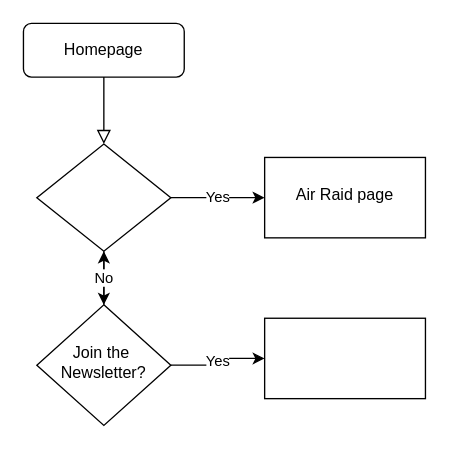
Some shapes in this 449 by 449 pixel diagram are drawn without their labels. Each missing label, with the centre of its shape:
Learn the Air Raid?: point 103,197
Submit a request to receive newsletter: point 344,358
